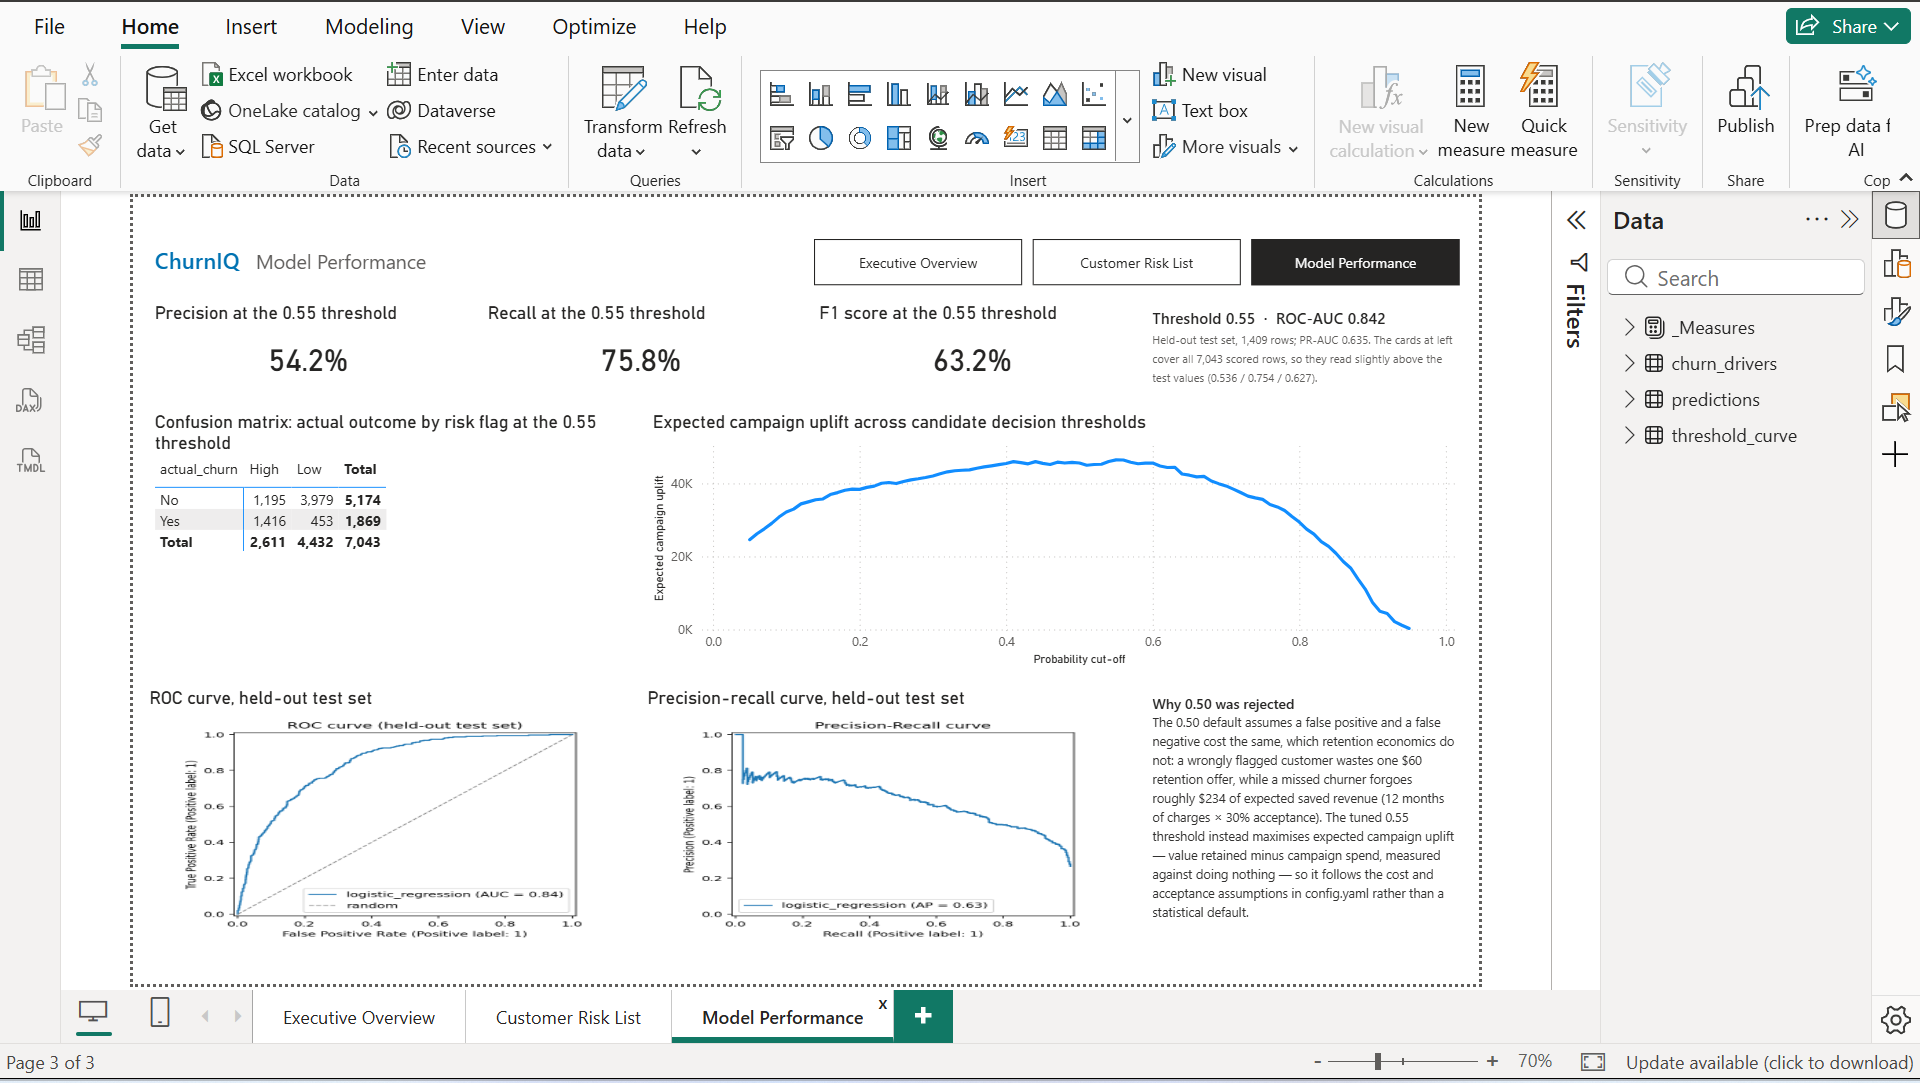

The page's visual inventory and layout, read from the dashboard file:
{"tool":"powerbi","page":{"name":"Model Performance","canvas":[1280,720],"ordinal":2},"visuals":[{"type":"textbox","box":[16,12,458,44],"z":0},{"type":"pageNavigator","box":[648,12,616,44],"z":1000},{"type":"card","title":"Precision at the 0.55 threshold","fields":{"Values":["_Measures.Precision"]},"box":[16,72,300,88],"z":2000},{"type":"card","title":"Recall at the 0.55 threshold","fields":{"Values":["_Measures.Recall"]},"box":[332,72,300,88],"z":3000},{"type":"card","title":"F1 score at the 0.55 threshold","fields":{"Values":["_Measures.F1 Score"]},"box":[648,72,300,88],"z":4000},{"type":"textbox","box":[964,72,300,88],"z":5000},{"type":"pivotTable","title":"Confusion matrix: actual outcome by risk flag at the 0.55 threshold","fields":{"Columns":["predictions.risk_flag"],"Rows":["predictions.actual_churn"],"Values":["_Measures.Total Customers"]},"box":[16,176,458,246],"z":6000},{"type":"lineChart","title":"Expected campaign uplift across candidate decision thresholds","fields":{"Category":["threshold_curve.threshold"],"Y":["Sum(threshold_curve.expected_value)"]},"box":[490,176,774,246],"z":7000},{"type":"image","title":"ROC curve, held-out test set","box":[16,438,458,246],"z":8000},{"type":"image","title":"Precision-recall curve, held-out test set","box":[490,438,458,246],"z":9000},{"type":"textbox","box":[964,438,300,246],"z":10000}]}

Visuals, with their boxes on the page's 1280x720 design canvas (x1, y1, x2, y2). These are canvas units, not pixel positions in the 1920x1083 screenshot, which may show the page scaled, cropped or inside an application window:
textbox: box=[16, 12, 474, 56]
pageNavigator: box=[648, 12, 1264, 56]
"Precision at the 0.55 threshold" card: box=[16, 72, 316, 160]
"Recall at the 0.55 threshold" card: box=[332, 72, 632, 160]
"F1 score at the 0.55 threshold" card: box=[648, 72, 948, 160]
textbox: box=[964, 72, 1264, 160]
"Confusion matrix: actual outcome by risk flag at the 0.55 threshold" pivotTable: box=[16, 176, 474, 422]
"Expected campaign uplift across candidate decision thresholds" lineChart: box=[490, 176, 1264, 422]
"ROC curve, held-out test set" image: box=[16, 438, 474, 684]
"Precision-recall curve, held-out test set" image: box=[490, 438, 948, 684]
textbox: box=[964, 438, 1264, 684]
